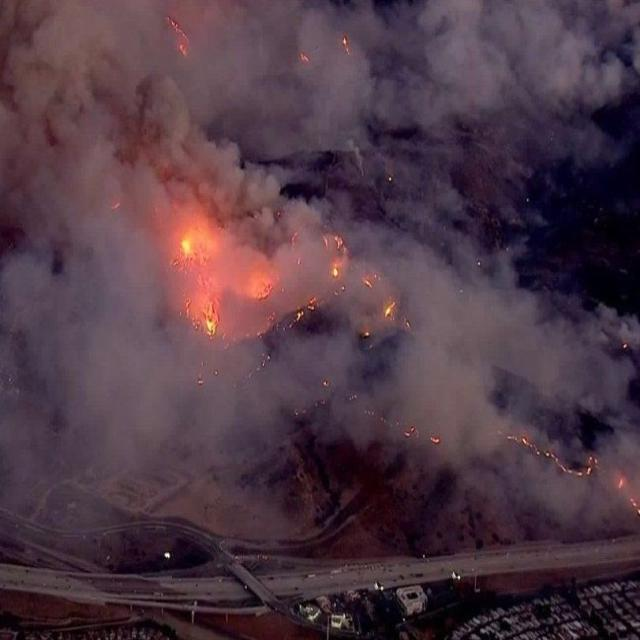Fire: (187, 296, 240, 351), (170, 220, 206, 270), (370, 290, 407, 326), (320, 256, 360, 288), (246, 274, 276, 299)
Smoke: (4, 0, 628, 526)
